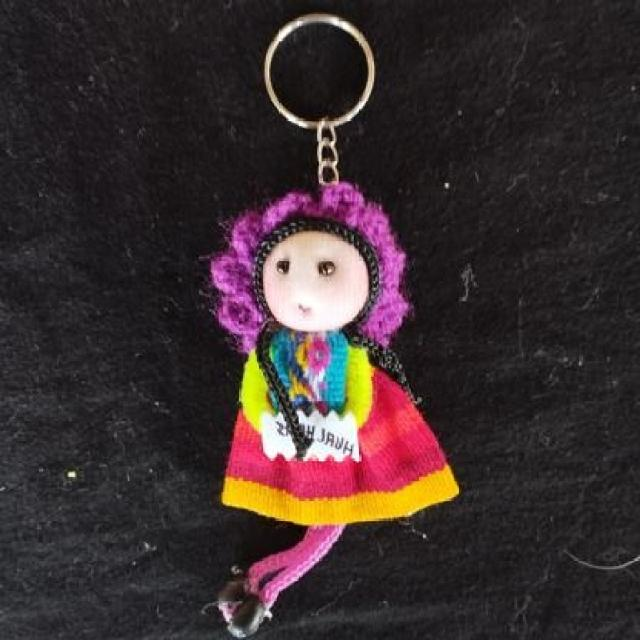Llavero: (205, 179, 463, 639)
